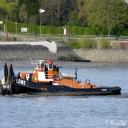tugboat: (5, 59, 124, 99)
